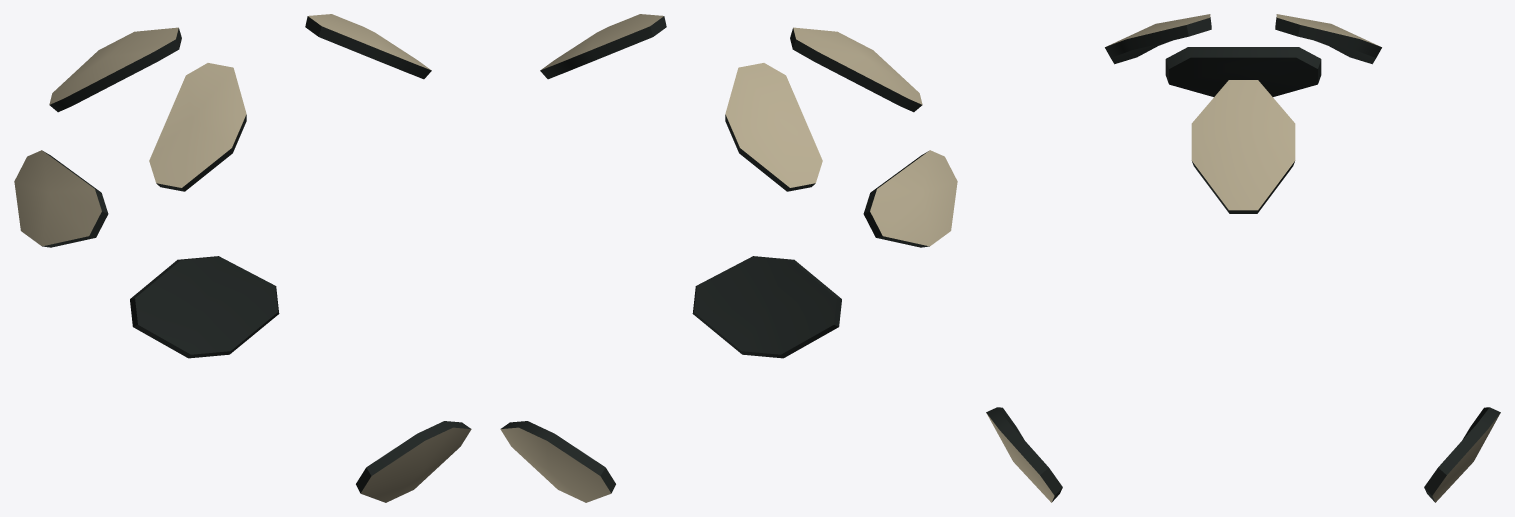
The model's file is shell_sable_c4.glb.
3 renders of one model, left to right at view 1: azimuth 30°, elevation 25°; view 2: azimuth 150°, elevation 25°; view 3: azimuth 270°, elevation 25°, orthographic. The views are drawn at different scales.
Visible parts, largest first — view 1: Pod; view 2: Pod; view 3: Pod.
Part boxes in pixels (left/top/right/bottom): Pod: left=14, top=14, right=471, bottom=502; Pod: left=500, top=14, right=957, bottom=502; Pod: left=986, top=14, right=1500, bottom=502.
Size of the model in its own units: 1.54 by 1.5 by 1.67.
